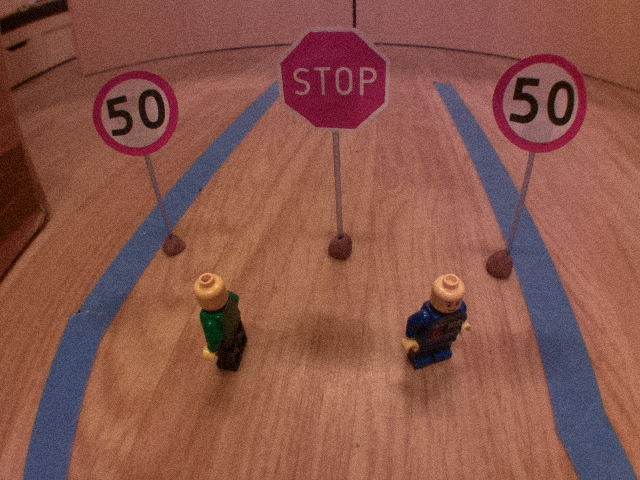LEGO_person: (397, 271, 476, 379), (185, 268, 251, 378)
ogr_50: (487, 50, 590, 157), (88, 67, 183, 159)
stop: (273, 23, 394, 134)
